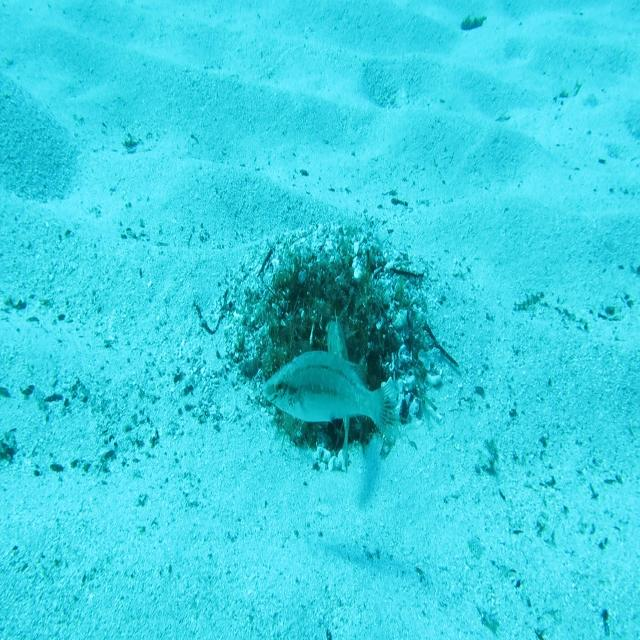FAN: (323, 305, 351, 477)
core_nest: (301, 278, 354, 319)
female: (260, 348, 402, 449)
nest: (217, 214, 444, 482)
vegetation: (461, 13, 486, 34)
